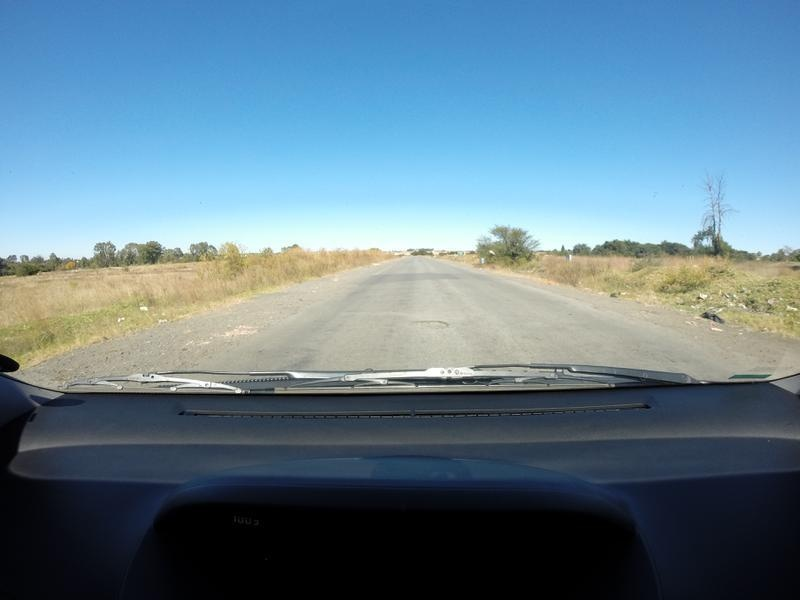pothole: (413, 318, 451, 328)
